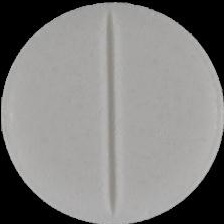57664-502: (0, 0, 224, 224)
